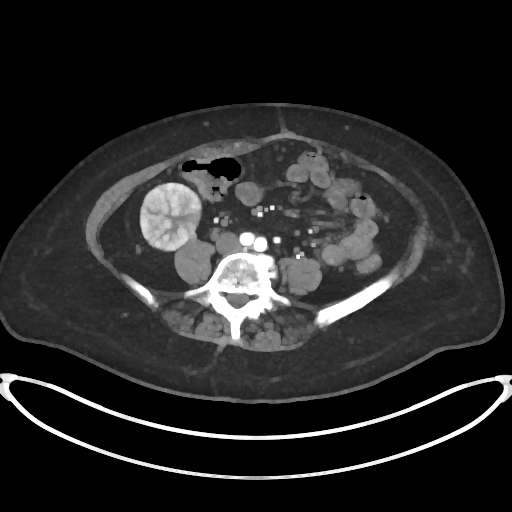Lesion: (136, 178, 203, 256)
